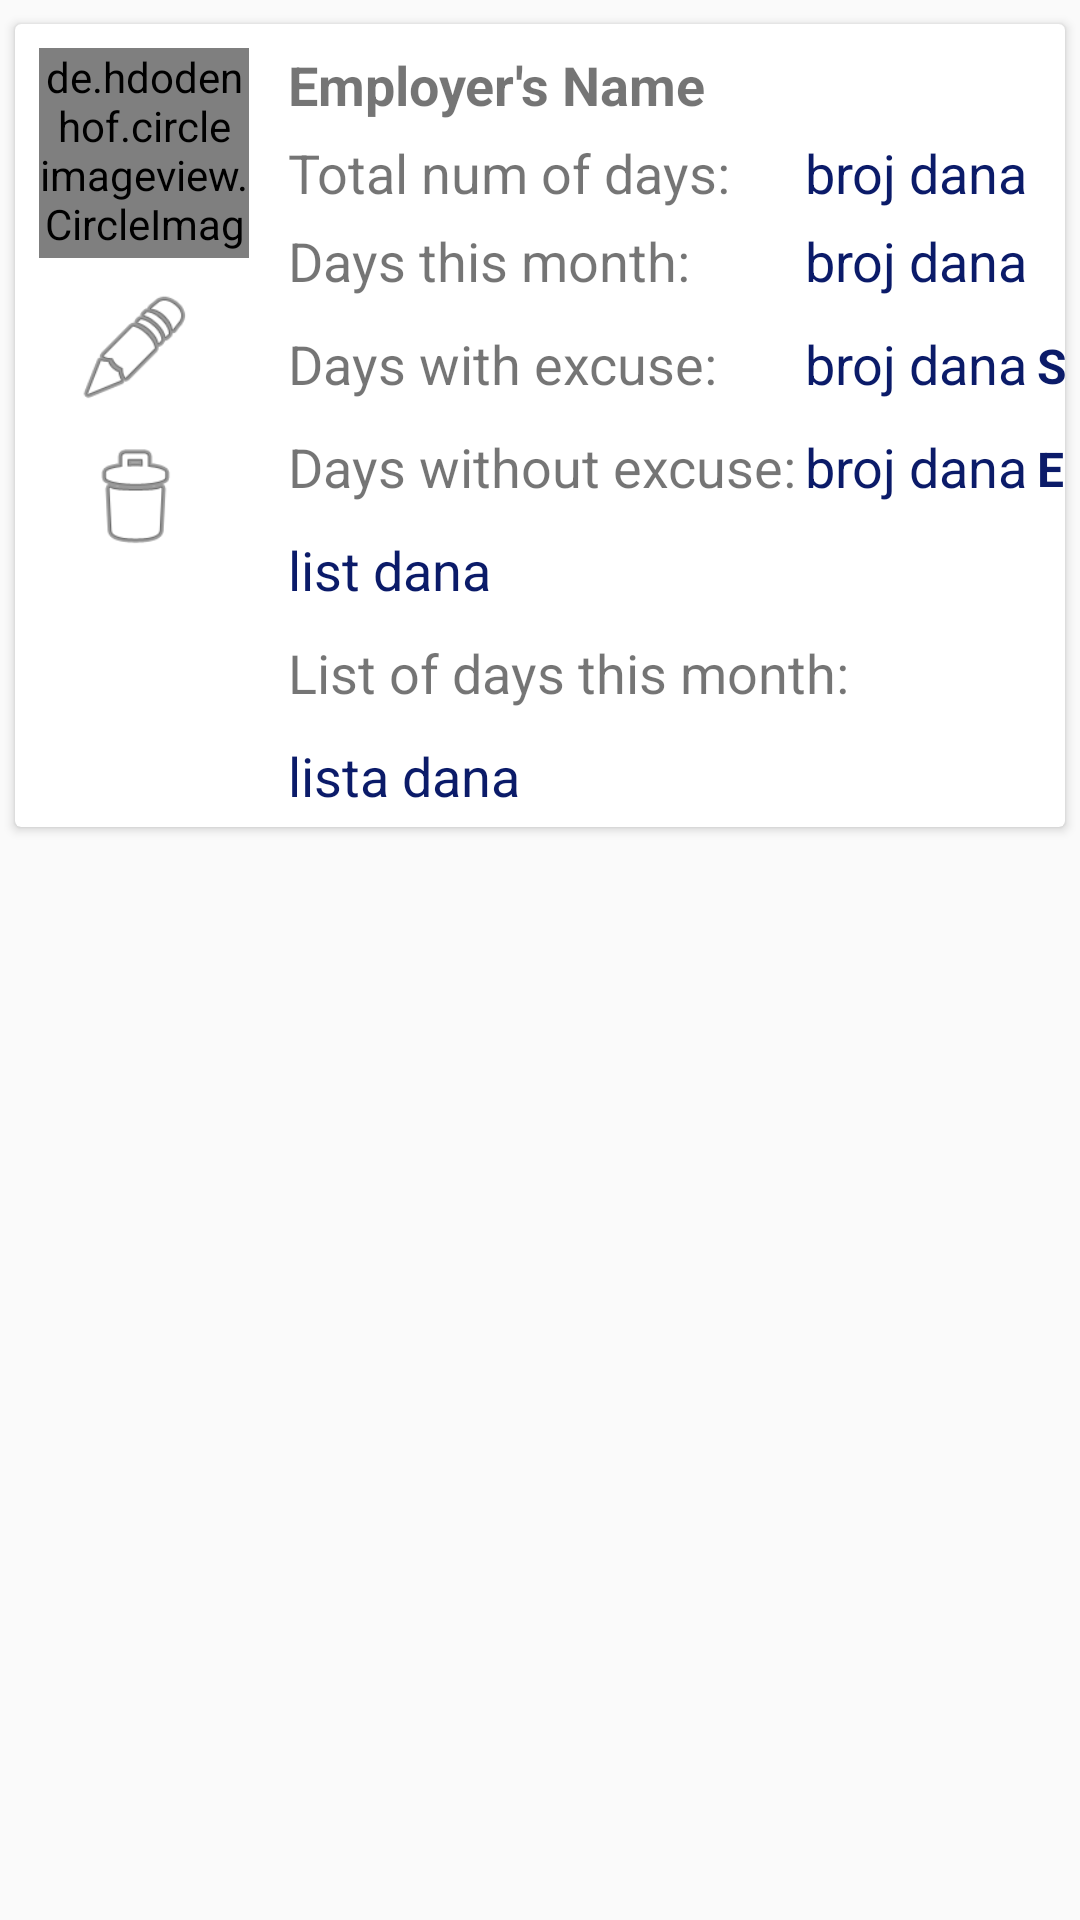

Icon click points for this 1080px×1920px phone screenshot, format [x,y]:
delete: [136,496]
edit: [134,347]
